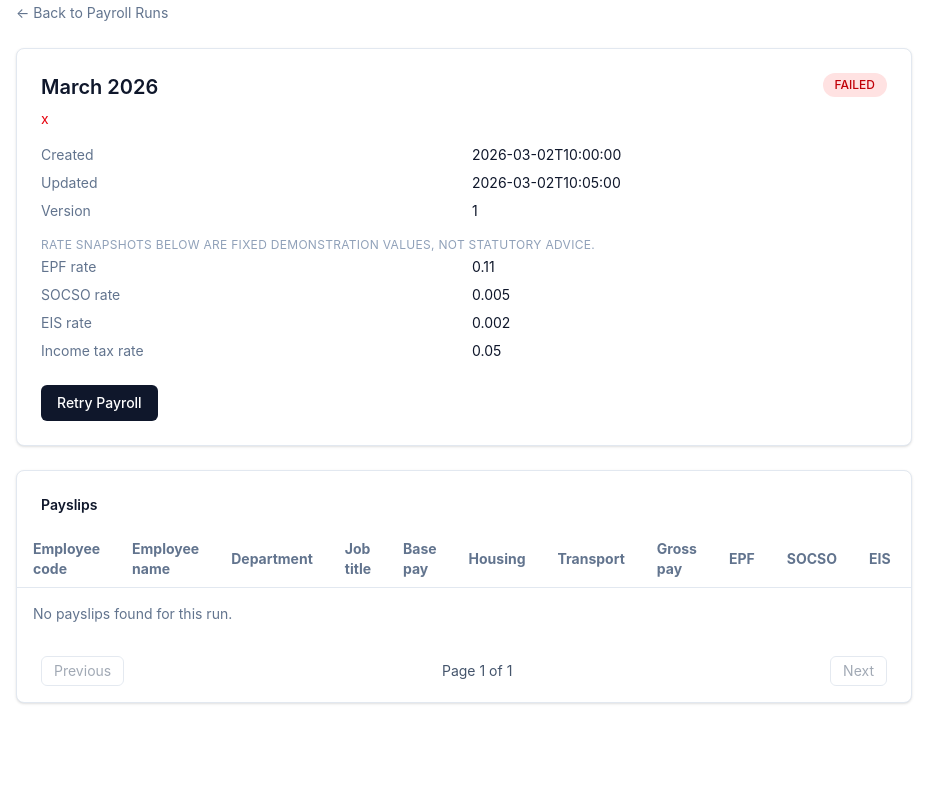
Test: PayrollRunDetailPage › retry › performs no request when confirmation is cancelled
What coordinates should you click on to do the following:
click the button "Retry Payroll"
I would click on:
 (99, 403)
Its box is [41, 385, 158, 421].
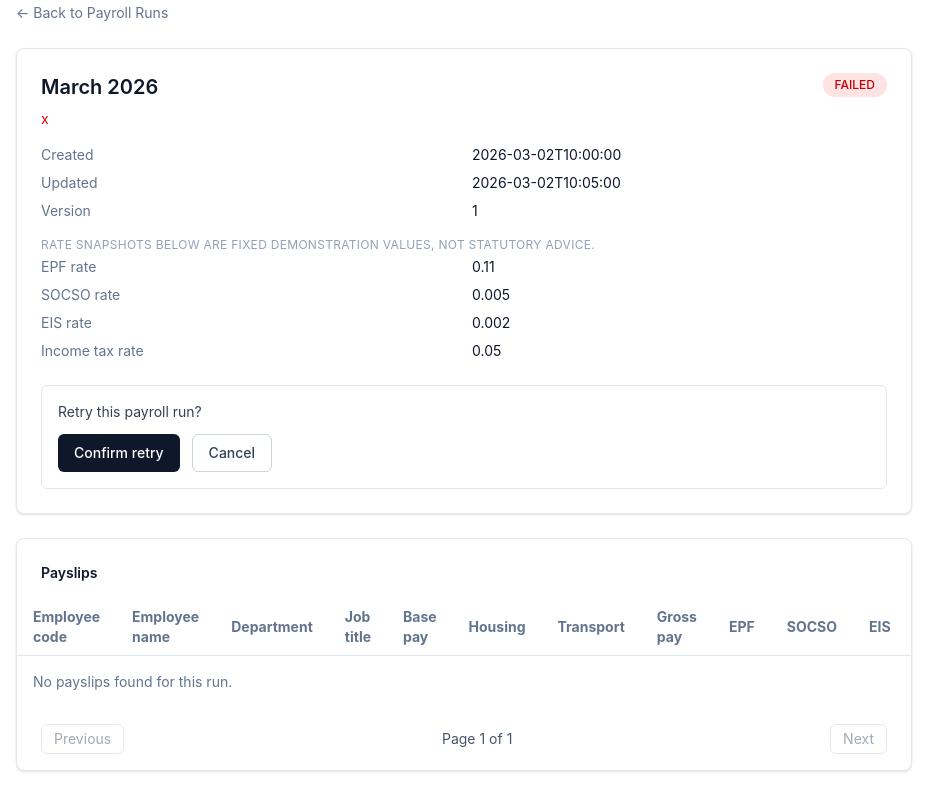
What coordinates should you click on to do the following:
click the button "Cancel"
I would click on:
 (232, 453)
Its box is [192, 434, 272, 472].
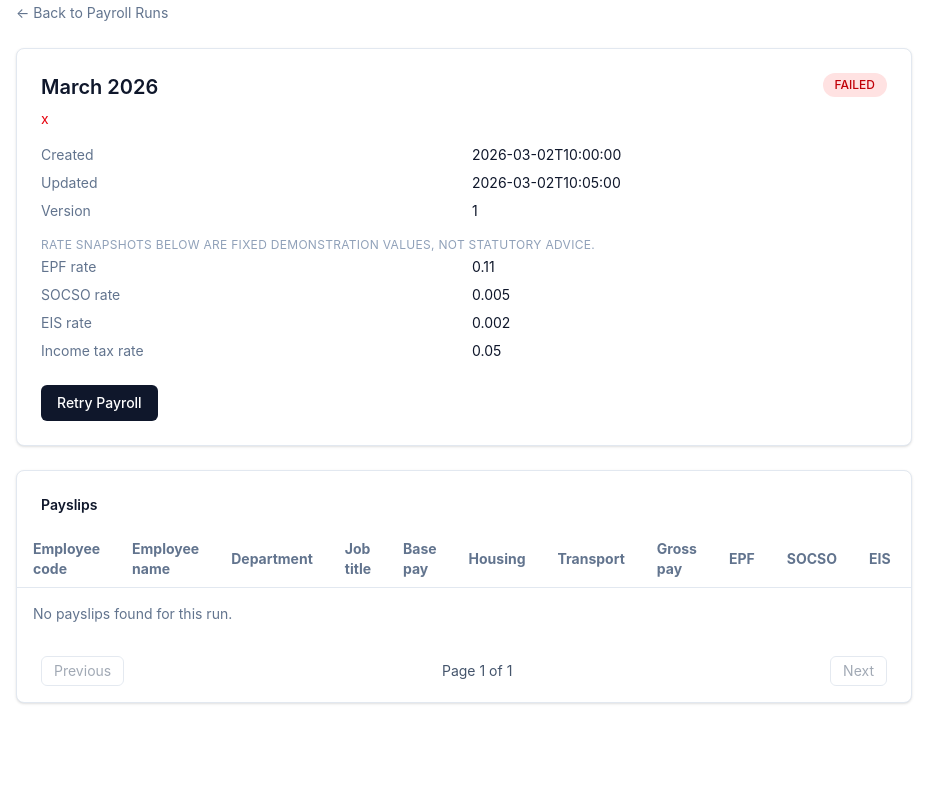
Check: the button "Confirm retry" is gone
